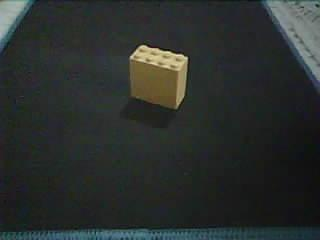lego: (127, 44, 188, 110)
